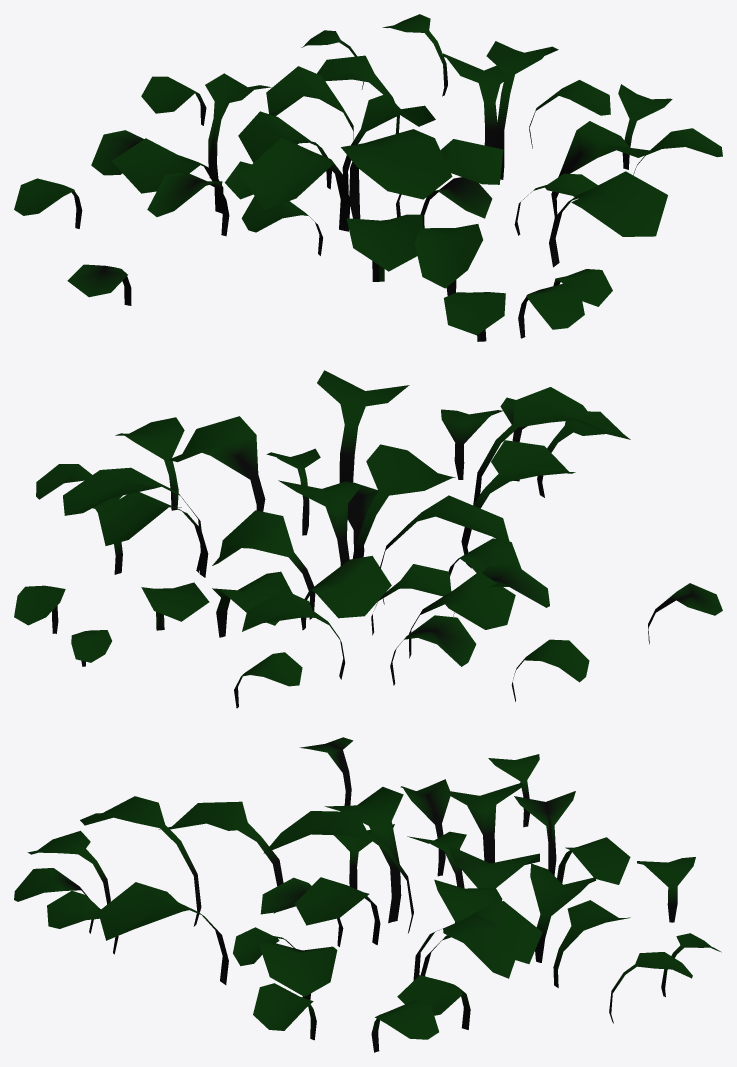
Rendered from GroundIviGCATA_Dense_A.fbx.
3 renders of one model, top to bottom at view 1: azimuth 30°, elevation 25°; view 2: azimuth 150°, elevation 25°; view 3: azimuth 270°, elevation 25°, orthographic. The views are drawn at different scales.
Parts seen in each view (by area): view 1: GIGCATADA_LOD0; view 2: GIGCATADA_LOD0; view 3: GIGCATADA_LOD0.
Boxes of the visible parts, <box> form: GIGCATADA_LOD0: <box>14,14,722,341</box>; GIGCATADA_LOD0: <box>14,370,722,708</box>; GIGCATADA_LOD0: <box>14,737,721,1052</box>.
Size of what is drawn, in the model's own units: 1.86 by 0.32 by 1.83.
